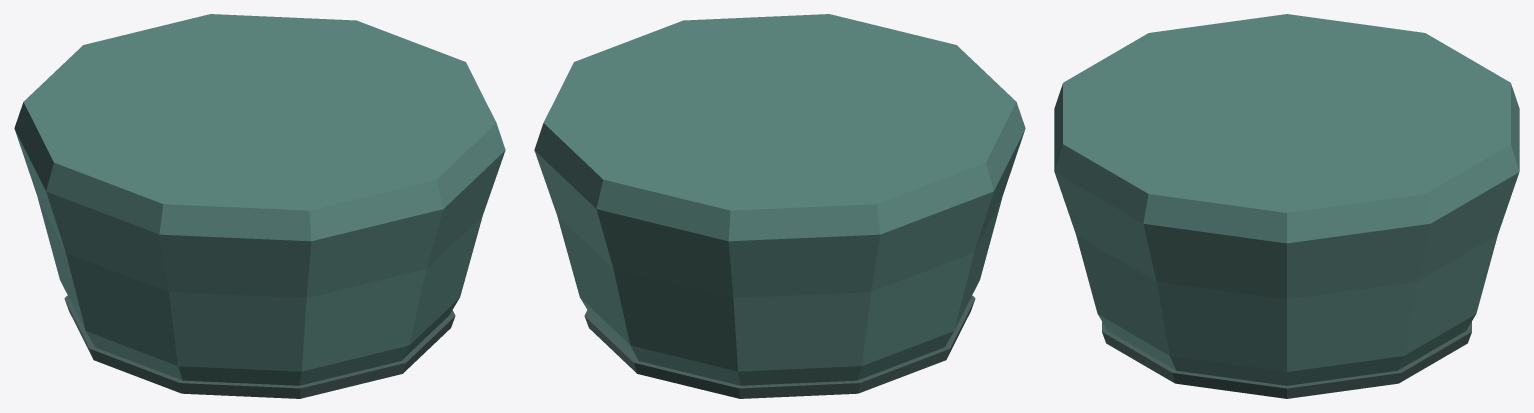
The model's file is upper_sleeve.glb.
3 renders of one model, left to right at view 1: azimuth 30°, elevation 25°; view 2: azimuth 150°, elevation 25°; view 3: azimuth 270°, elevation 25°, orthographic.
Visible parts, largest first — view 1: Tailored_sleeve, Cuff_seam; view 2: Tailored_sleeve, Cuff_seam; view 3: Tailored_sleeve, Cuff_seam.
Part boxes in pixels (x1,y1,x2,y2): Tailored_sleeve: [14, 14, 505, 385]; Cuff_seam: [64, 295, 455, 398]; Tailored_sleeve: [534, 14, 1025, 385]; Cuff_seam: [584, 295, 975, 398]; Tailored_sleeve: [1054, 14, 1519, 385]; Cuff_seam: [1102, 321, 1471, 398].
Size of the model in its own units: 2.16 by 1 by 2.05.
